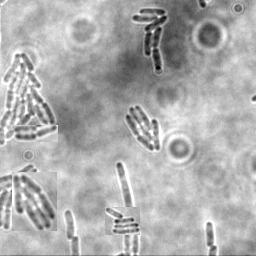Dividing: (114, 161, 133, 255), (14, 125, 58, 142), (204, 221, 215, 248)
Microcolony: (1, 51, 56, 147), (12, 172, 57, 231), (130, 8, 167, 72), (124, 106, 160, 153), (105, 207, 140, 235), (63, 208, 74, 240)
